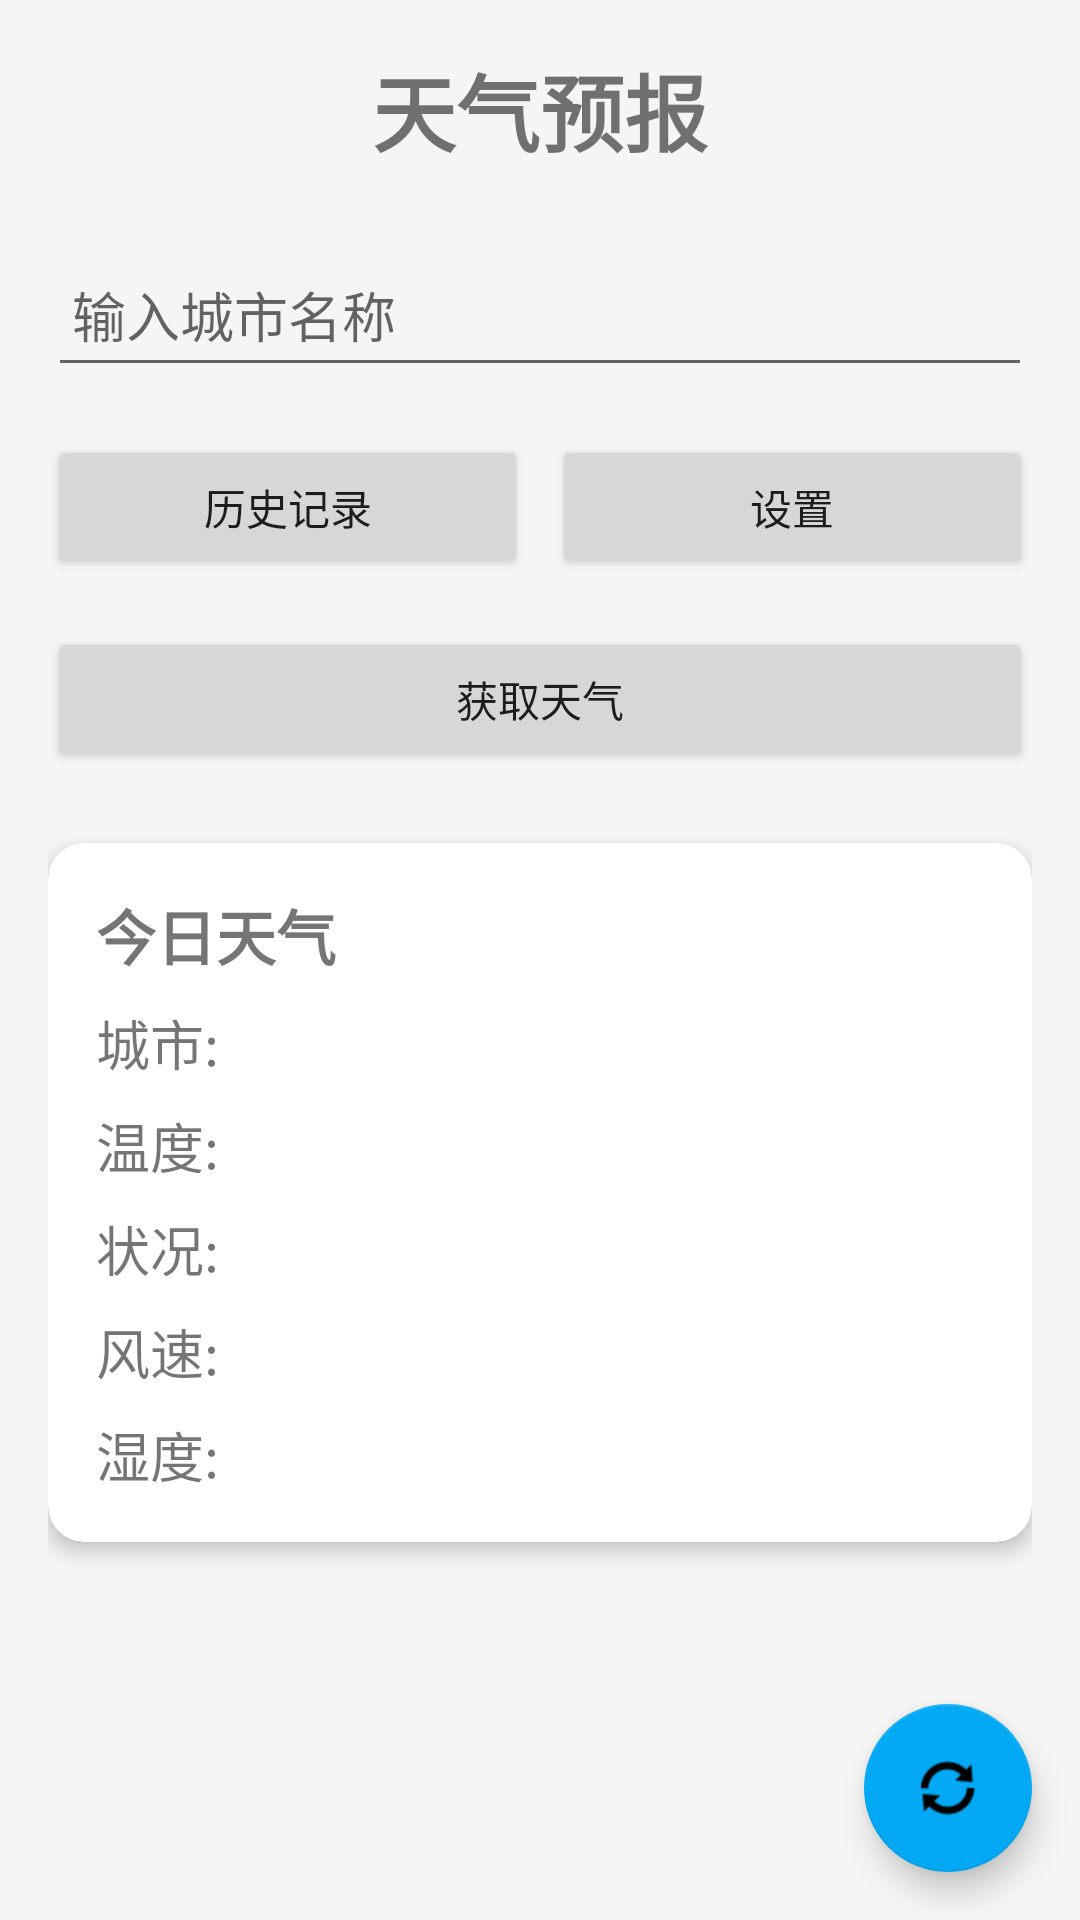

Icon click points for this 1080 × 1920 phone screenshot, format (x,y):
刷新: (948,1788)
